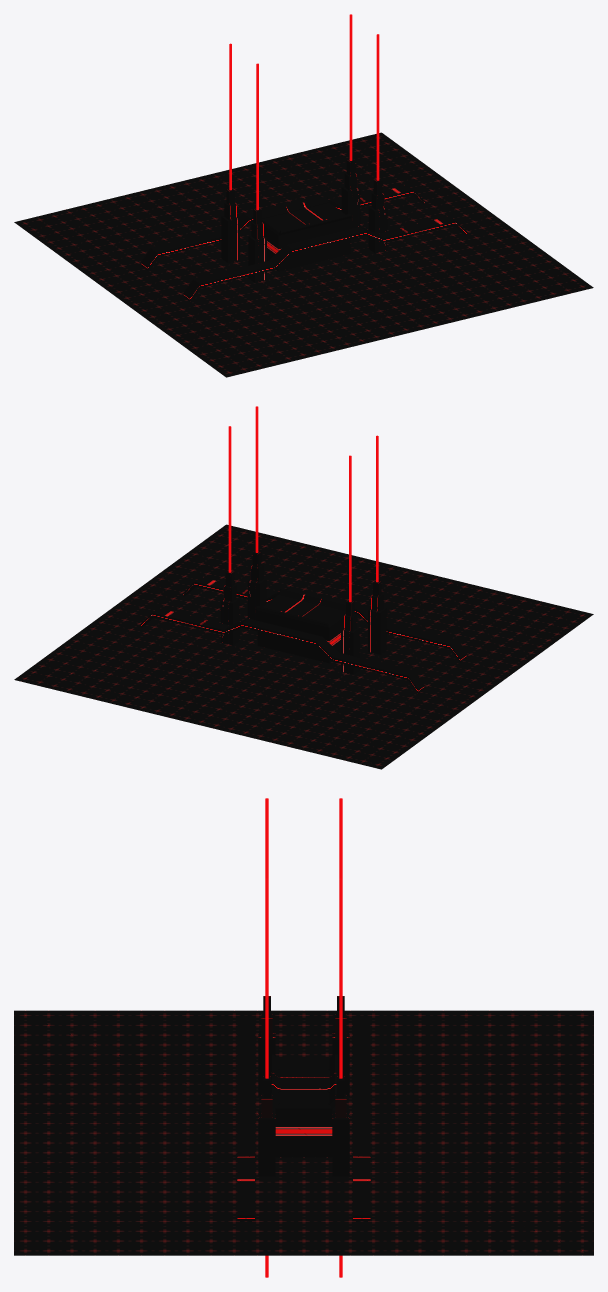
Rendered from tronStadium1.glb.
3 views of the same model, one above another, from view 1: azimuth 30°, elevation 25°; view 2: azimuth 150°, elevation 25°; view 3: azimuth 270°, elevation 25° (orthographic). The views are drawn at different scales.
Visible parts, largest first — view 1: Plane, Cube.001, Cube; view 2: Plane, Cube.001, Cube; view 3: Plane, Cube.001, Cube.
Boxes of the visible parts, box(x1,y1,x2,y2) form: Plane: box(14, 132, 593, 377); Cube.001: box(141, 14, 466, 301); Cube: box(262, 197, 351, 271); Plane: box(14, 524, 593, 769); Cube.001: box(141, 406, 466, 693); Cube: box(256, 589, 345, 663); Plane: box(14, 1010, 593, 1255); Cube.001: box(237, 798, 370, 1277); Cube: box(270, 1054, 337, 1157).
Bounding box in the file's own units: 20.44 × 15.47 × 20.44.
3 materials, 2 textured.
